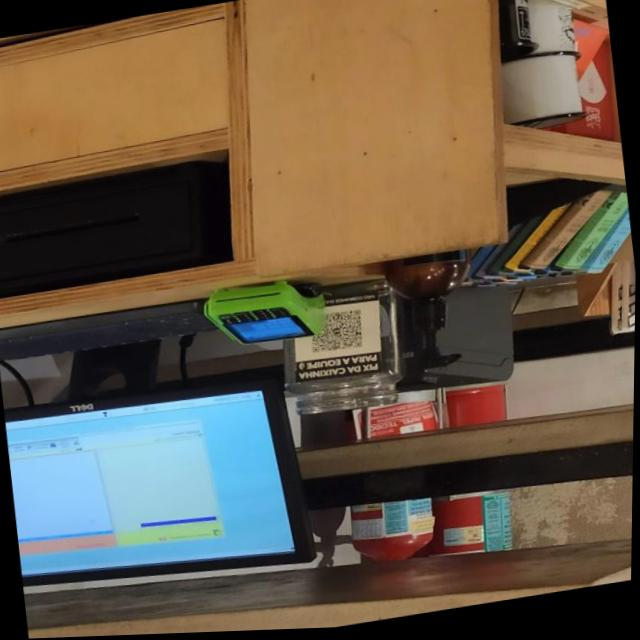qrcode: (309, 311, 365, 356)
